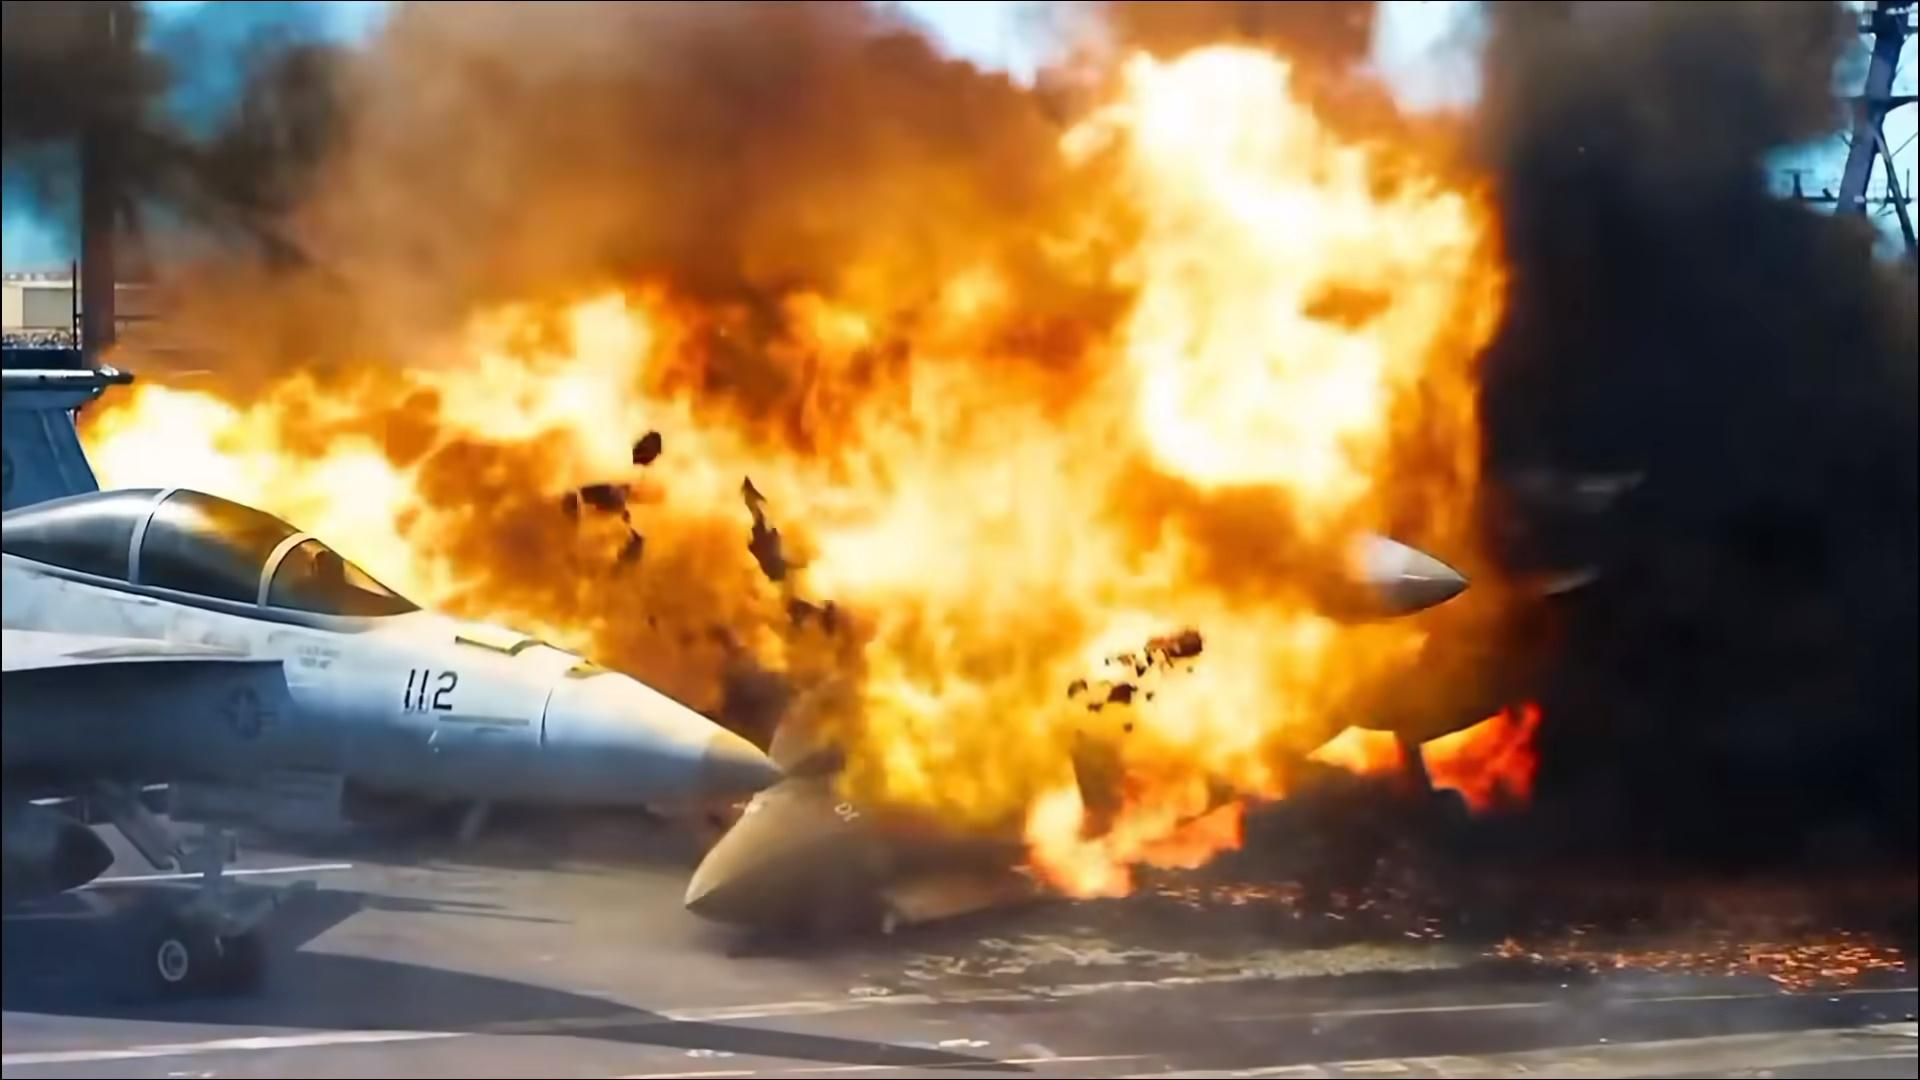fire: (51, 1, 1530, 898)
